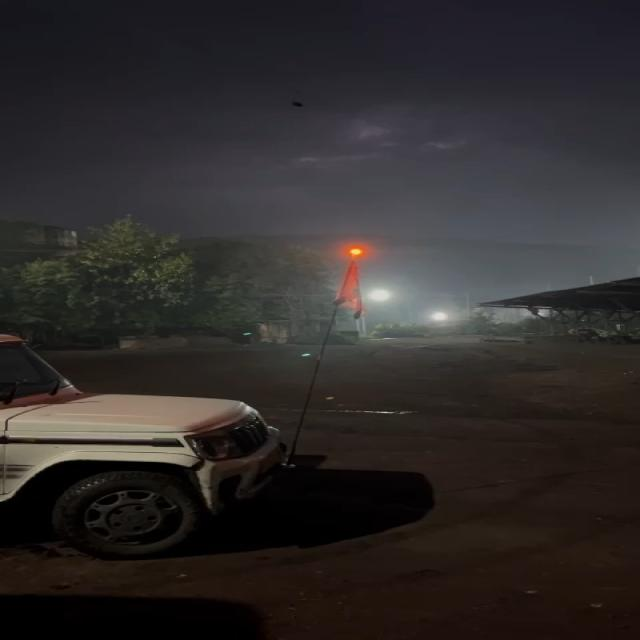light_vehicle: (0, 334, 295, 555)
